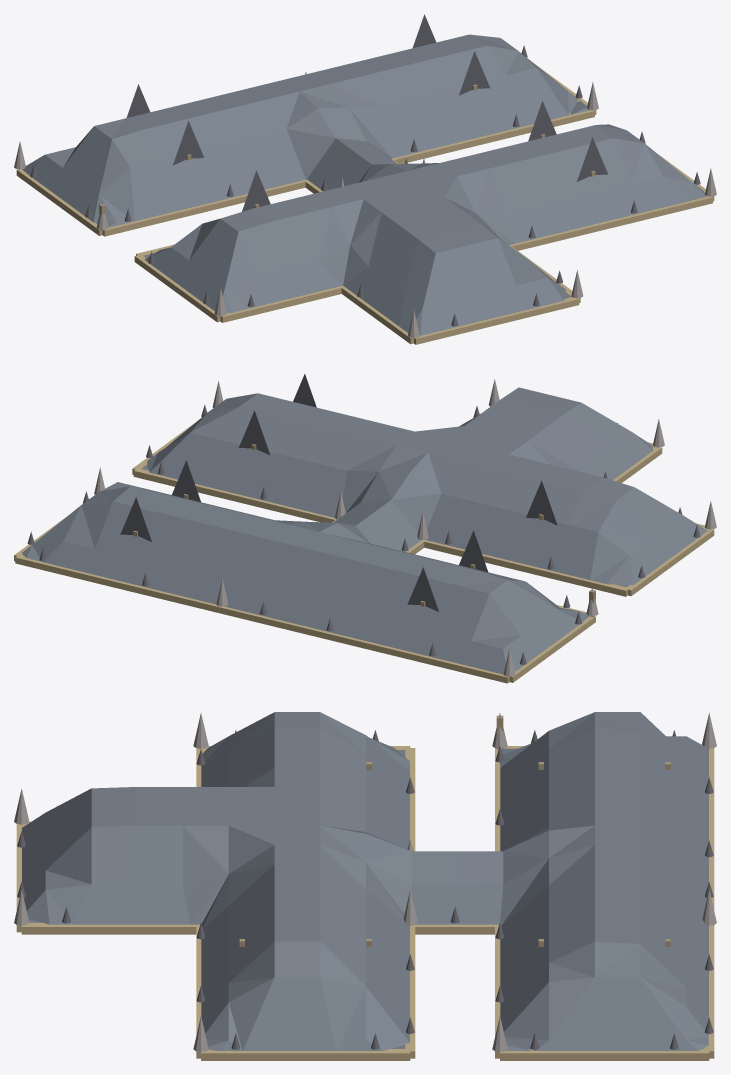
Rendered from roof.glb.
3 views of the same model, one above another, from view 1: azimuth 30°, elevation 25°; view 2: azimuth 150°, elevation 25°; view 3: azimuth 270°, elevation 25° (orthographic). The views are drawn at different scales.
Parts seen in each view (by area): view 1: outline-faithful-mansard-roof, polygon-eave-9, polygon-eave-0, polygon-eave-13, polygon-eave-4, polygon-eave-3, polygon-eave-18, polygon-eave-7, polygon-eave-5, polygon-eave-6; view 2: outline-faithful-mansard-roof, polygon-eave-15, polygon-eave-17, polygon-eave-2, polygon-eave-11, polygon-eave-3, polygon-eave-18, polygon-eave-16; view 3: outline-faithful-mansard-roof, polygon-eave-10, polygon-eave-14, polygon-eave-8, polygon-eave-12, polygon-eave-11, polygon-eave-15, polygon-eave-17, polygon-eave-2.
Boxes of the visible parts, x1,y1,x2,y2 form: outline-faithful-mansard-roof: (22, 34, 706, 335); polygon-eave-9: (509, 196, 712, 250); polygon-eave-0: (102, 180, 307, 236); polygon-eave-13: (392, 110, 594, 163); polygon-eave-4: (220, 286, 342, 322); polygon-eave-3: (134, 255, 220, 322); polygon-eave-18: (16, 169, 102, 235); polygon-eave-7: (496, 297, 579, 324); polygon-eave-5: (340, 286, 413, 344); polygon-eave-6: (414, 317, 497, 344); outline-faithful-mansard-roof: (22, 387, 707, 674); polygon-eave-15: (15, 554, 221, 613); polygon-eave-17: (302, 626, 509, 683); polygon-eave-2: (421, 540, 629, 596); polygon-eave-11: (133, 468, 336, 522); polygon-eave-3: (625, 529, 714, 596); polygon-eave-18: (509, 616, 595, 682); polygon-eave-16: (220, 606, 303, 633); outline-faithful-mansard-roof: (22, 712, 708, 1050); polygon-eave-10: (201, 1049, 410, 1060); polygon-eave-14: (500, 1049, 709, 1060); polygon-eave-8: (21, 922, 199, 934); polygon-eave-12: (415, 924, 498, 934); polygon-eave-11: (405, 925, 415, 1058); polygon-eave-15: (704, 925, 714, 1058); polygon-eave-17: (709, 748, 714, 874); polygon-eave-2: (405, 748, 415, 851).
Bounding box in the file's own units: 14.94 × 2.22 × 14.34.
